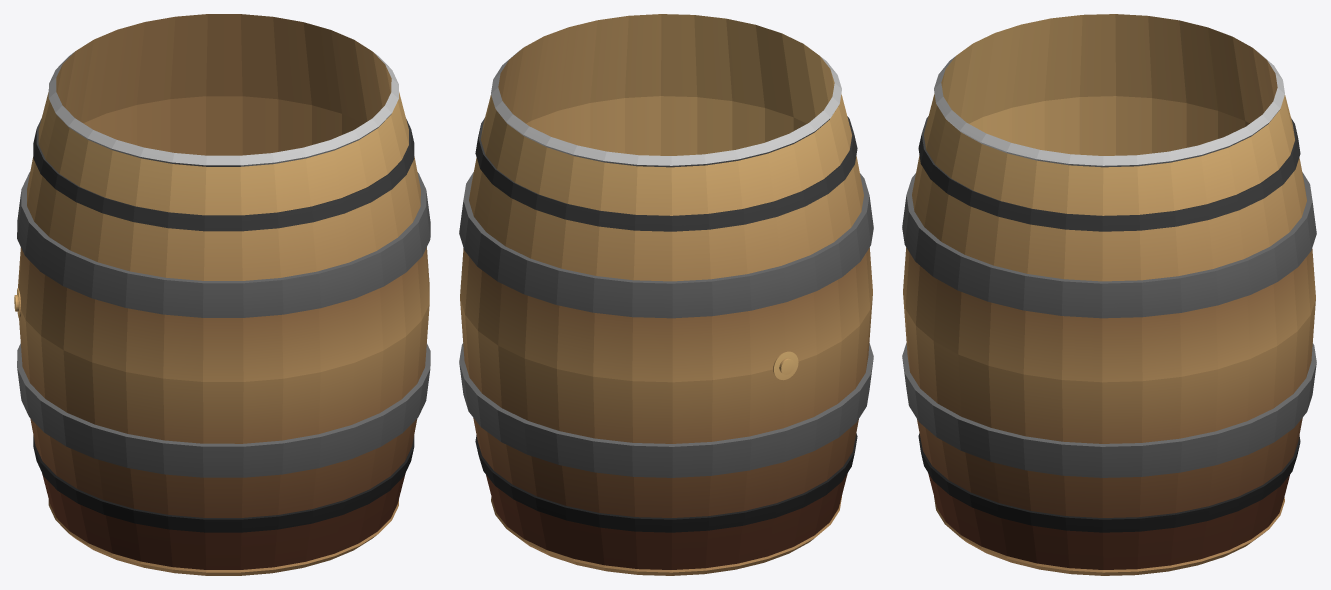
File: Small Light Open Barrel.fbx
3 renders of one model, left to right at view 1: azimuth 30°, elevation 25°; view 2: azimuth 150°, elevation 25°; view 3: azimuth 270°, elevation 25°, orthographic.
Parts seen in each view (by area): view 1: Small Light Open Barrel; view 2: Small Light Open Barrel; view 3: Small Light Open Barrel.
Boxes of the visible parts, x1=… form: Small Light Open Barrel: x1=14, y1=14, x2=430, y2=575; Small Light Open Barrel: x1=459, y1=14, x2=873, y2=575; Small Light Open Barrel: x1=902, y1=14, x2=1316, y2=575.
Size of the model in its own units: 254 by 227 by 227.
1 material, 1 textured.
